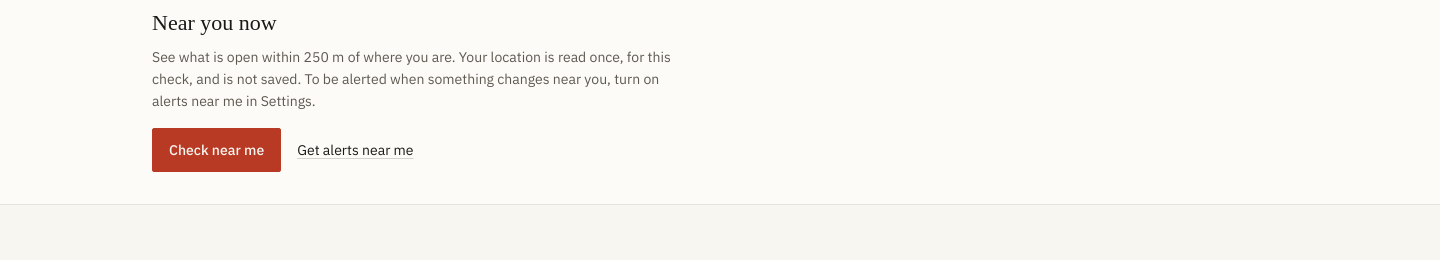
Test: Near you now (home) › says plainly when nothing is recorded nearby
Click the button "Check near me" at (217, 150), box [152,128,281,172]
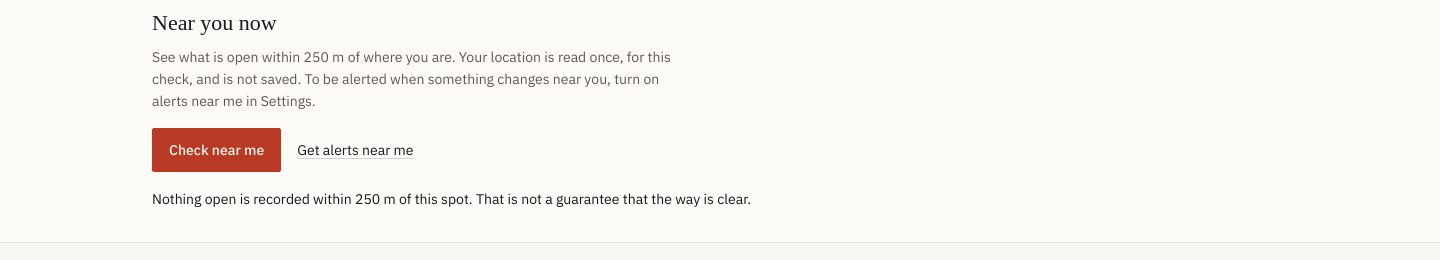
Now the text "Nothing open is recorded within 250 m" is shown, box [152,190,751,208]
